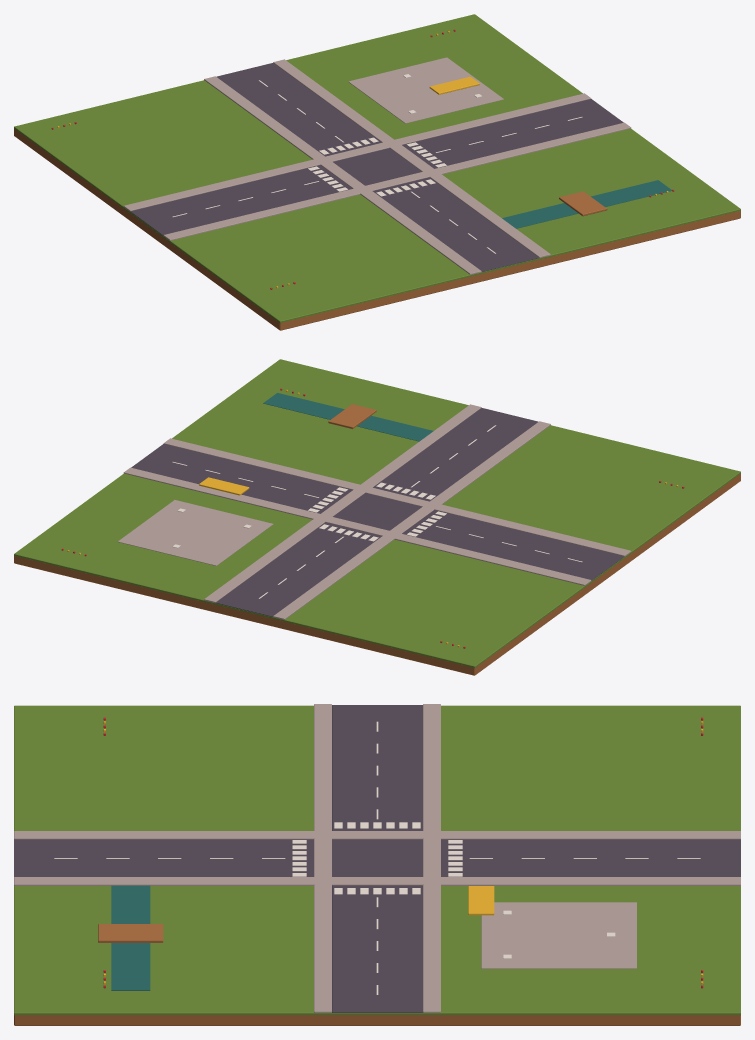
Rendered from D-PARK.base.glb.
The picture shows the model from 3 angles, top to bottom: view 1: azimuth 30°, elevation 25°; view 2: azimuth 150°, elevation 25°; view 3: azimuth 270°, elevation 25°; orthographic projection. The views are drawn at different scales.
Visible parts, largest first — view 1: pal_grass, pal_asphalt, pal_sidewalk, pal_woodWarm, pal_backpackTeal, pal_picketWhite; view 2: pal_grass, pal_asphalt, pal_sidewalk, pal_woodWarm, pal_backpackTeal, pal_picketWhite; view 3: pal_grass, pal_asphalt, pal_sidewalk, pal_woodWarm, pal_backpackTeal, pal_picketWhite, collapse-canopy.
Boxes of the visible parts, bbox=[...] form: pal_grass: bbox=[14, 14, 740, 322]; pal_asphalt: bbox=[130, 63, 623, 271]; pal_sidewalk: bbox=[123, 57, 631, 274]; pal_woodWarm: bbox=[14, 128, 740, 330]; pal_backpackTeal: bbox=[502, 180, 672, 228]; pal_picketWhite: bbox=[172, 74, 582, 253]; pal_grass: bbox=[14, 359, 740, 667]; pal_asphalt: bbox=[131, 408, 624, 616]; pal_sidewalk: bbox=[118, 404, 631, 619]; pal_woodWarm: bbox=[14, 404, 740, 675]; pal_backpackTeal: bbox=[263, 393, 433, 441]; pal_picketWhite: bbox=[172, 425, 582, 598]; pal_grass: bbox=[14, 705, 740, 1015]; pal_asphalt: bbox=[14, 705, 740, 1012]; pal_sidewalk: bbox=[14, 704, 740, 1012]; pal_woodWarm: bbox=[14, 924, 740, 1025]; pal_backpackTeal: bbox=[111, 885, 150, 990]; pal_picketWhite: bbox=[54, 721, 700, 994]; collapse-canopy: bbox=[468, 886, 494, 915].
Bounding box in the file's own units: 56 × 4.25 × 56.
